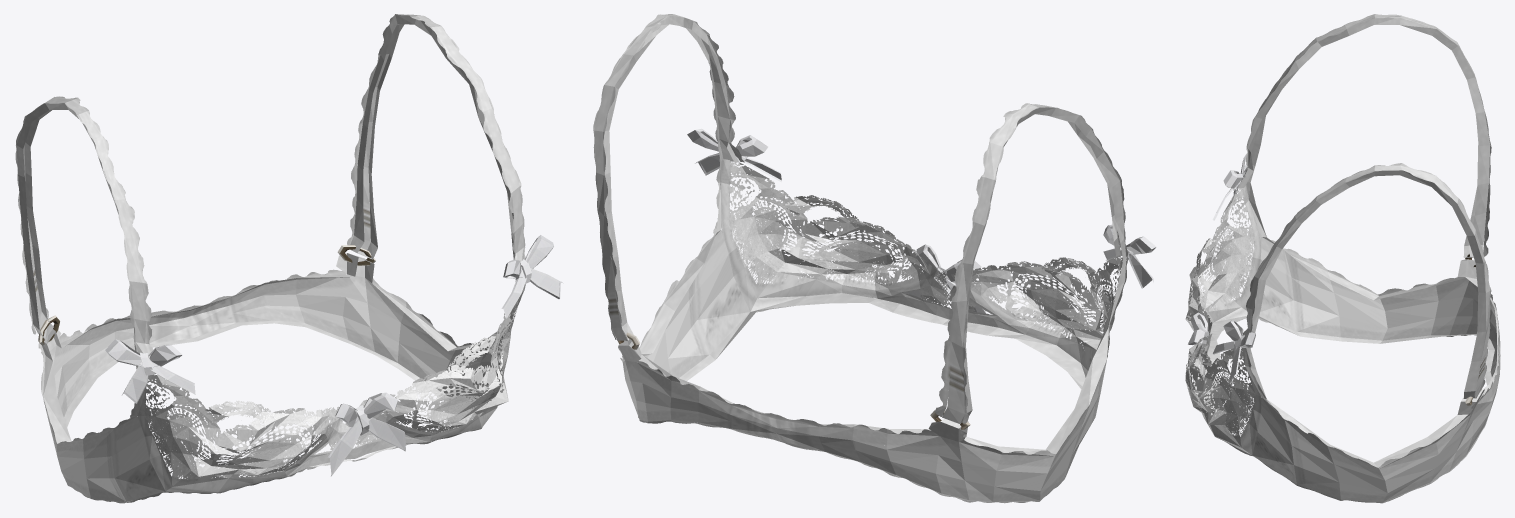
The model's file is mhw_punkduck_french_lingerie_bra.glb.
The picture shows the model from 3 angles, left to right: view 1: azimuth 30°, elevation 25°; view 2: azimuth 150°, elevation 25°; view 3: azimuth 270°, elevation 25°; orthographic projection. The views are drawn at different scales.
Visible parts, largest first — view 1: mhw_punkduck_french_lingerie_bra; view 2: mhw_punkduck_french_lingerie_bra; view 3: mhw_punkduck_french_lingerie_bra.
Boxes of the visible parts, x1,y1,x2,y2 form: mhw_punkduck_french_lingerie_bra: [15, 14, 562, 503]; mhw_punkduck_french_lingerie_bra: [593, 14, 1156, 503]; mhw_punkduck_french_lingerie_bra: [1185, 14, 1500, 503].
Bounding box in the file's own units: 0.3698 × 0.2953 × 0.254.
1 material, 1 textured.
